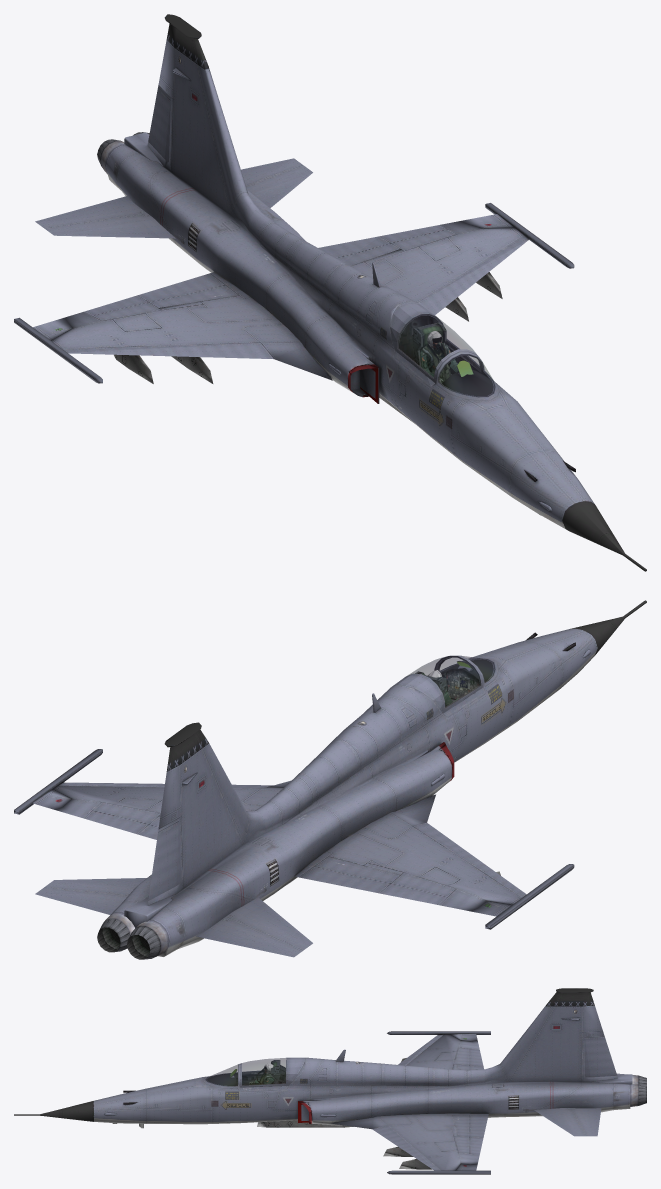
File: F-5A_Freedom_Fighter.dat.obj
The picture shows the model from 3 angles, top to bottom: view 1: azimuth 30°, elevation 25°; view 2: azimuth 150°, elevation 25°; view 3: azimuth 270°, elevation 25°; orthographic projection. The views are drawn at different scales.
Parts seen in each view (by area): view 1: F-5A_LOD0, F-5A_Glass_Canopy01, F-5A_ElevatorR01, F-5A_VoletR01, F-5A_ElevatorL01, F-5A_FlapR01, F-5A_Canopy01, F-5A_VoletL01, F-5A_FlapL01, F-5A_RudderL01, F-5A_Pilot01, F-5A_AileronL01 (+1 smaller); view 2: F-5A_LOD0, F-5A_ElevatorR01, F-5A_ElevatorL01, F-5A_Glass_Canopy01, F-5A_FlapR01, F-5A_RudderL01, F-5A_Canopy01, F-5A_AileronL01, F-5A_AileronR01, F-5A_VoletR01, F-5A_EngineR01, F-5A_EngineL01 (+1 smaller); view 3: F-5A_LOD0, F-5A_Glass_Canopy01, F-5A_ElevatorL01, F-5A_RudderL01, F-5A_Canopy01, F-5A_FlapL01, F-5A_VoletL01, F-5A_AileronR01, F-5A_AileronL01, F-5A_Eject_Seat01, F-5A_Pilot01.
Boxes of the visible parts, x1=… form: F-5A_LOD0: x1=14, y1=14, x2=646, y2=571; F-5A_Glass_Canopy01: x1=397, y1=314, x2=495, y2=397; F-5A_ElevatorR01: x1=35, y1=196, x2=175, y2=238; F-5A_VoletR01: x1=62, y1=343, x2=273, y2=359; F-5A_ElevatorL01: x1=241, y1=158, x2=312, y2=208; F-5A_FlapR01: x1=137, y1=273, x2=237, y2=307; F-5A_Canopy01: x1=390, y1=302, x2=481, y2=386; F-5A_VoletL01: x1=418, y1=235, x2=528, y2=314; F-5A_FlapL01: x1=318, y1=236, x2=400, y2=265; F-5A_RudderL01: x1=148, y1=85, x2=170, y2=161; F-5A_Pilot01: x1=420, y1=331, x2=458, y2=383; F-5A_AileronL01: x1=380, y1=225, x2=456, y2=250; F-5A_LOD0: x1=14, y1=600, x2=646, y2=956; F-5A_ElevatorR01: x1=196, y1=897, x2=312, y2=957; F-5A_ElevatorL01: x1=35, y1=878, x2=146, y2=914; F-5A_Glass_Canopy01: x1=407, y1=656, x2=495, y2=707; F-5A_FlapR01: x1=299, y1=857, x2=400, y2=893; F-5A_RudderL01: x1=148, y1=818, x2=180, y2=900; F-5A_Canopy01: x1=393, y1=655, x2=485, y2=716; F-5A_AileronL01: x1=84, y1=802, x2=160, y2=833; F-5A_AileronR01: x1=380, y1=872, x2=456, y2=905; F-5A_VoletR01: x1=414, y1=822, x2=526, y2=897; F-5A_EngineR01: x1=127, y1=926, x2=160, y2=959; F-5A_EngineL01: x1=97, y1=919, x2=129, y2=952; F-5A_LOD0: x1=14, y1=988, x2=638, y2=1174; F-5A_Glass_Canopy01: x1=205, y1=1058, x2=286, y2=1086; F-5A_ElevatorL01: x1=534, y1=1108, x2=601, y2=1136; F-5A_RudderL01: x1=585, y1=1037, x2=617, y2=1077; F-5A_Canopy01: x1=240, y1=1057, x2=305, y2=1091; F-5A_FlapL01: x1=453, y1=1115, x2=488, y2=1137; F-5A_VoletL01: x1=372, y1=1125, x2=440, y2=1170; F-5A_AileronR01: x1=454, y1=1047, x2=483, y2=1066; F-5A_AileronL01: x1=454, y1=1136, x2=483, y2=1154; F-5A_Eject_Seat01: x1=270, y1=1060, x2=285, y2=1083; F-5A_Pilot01: x1=249, y1=1063, x2=273, y2=1084.
Size of the model in its own units: 7.8 by 3.57 by 14.79.
